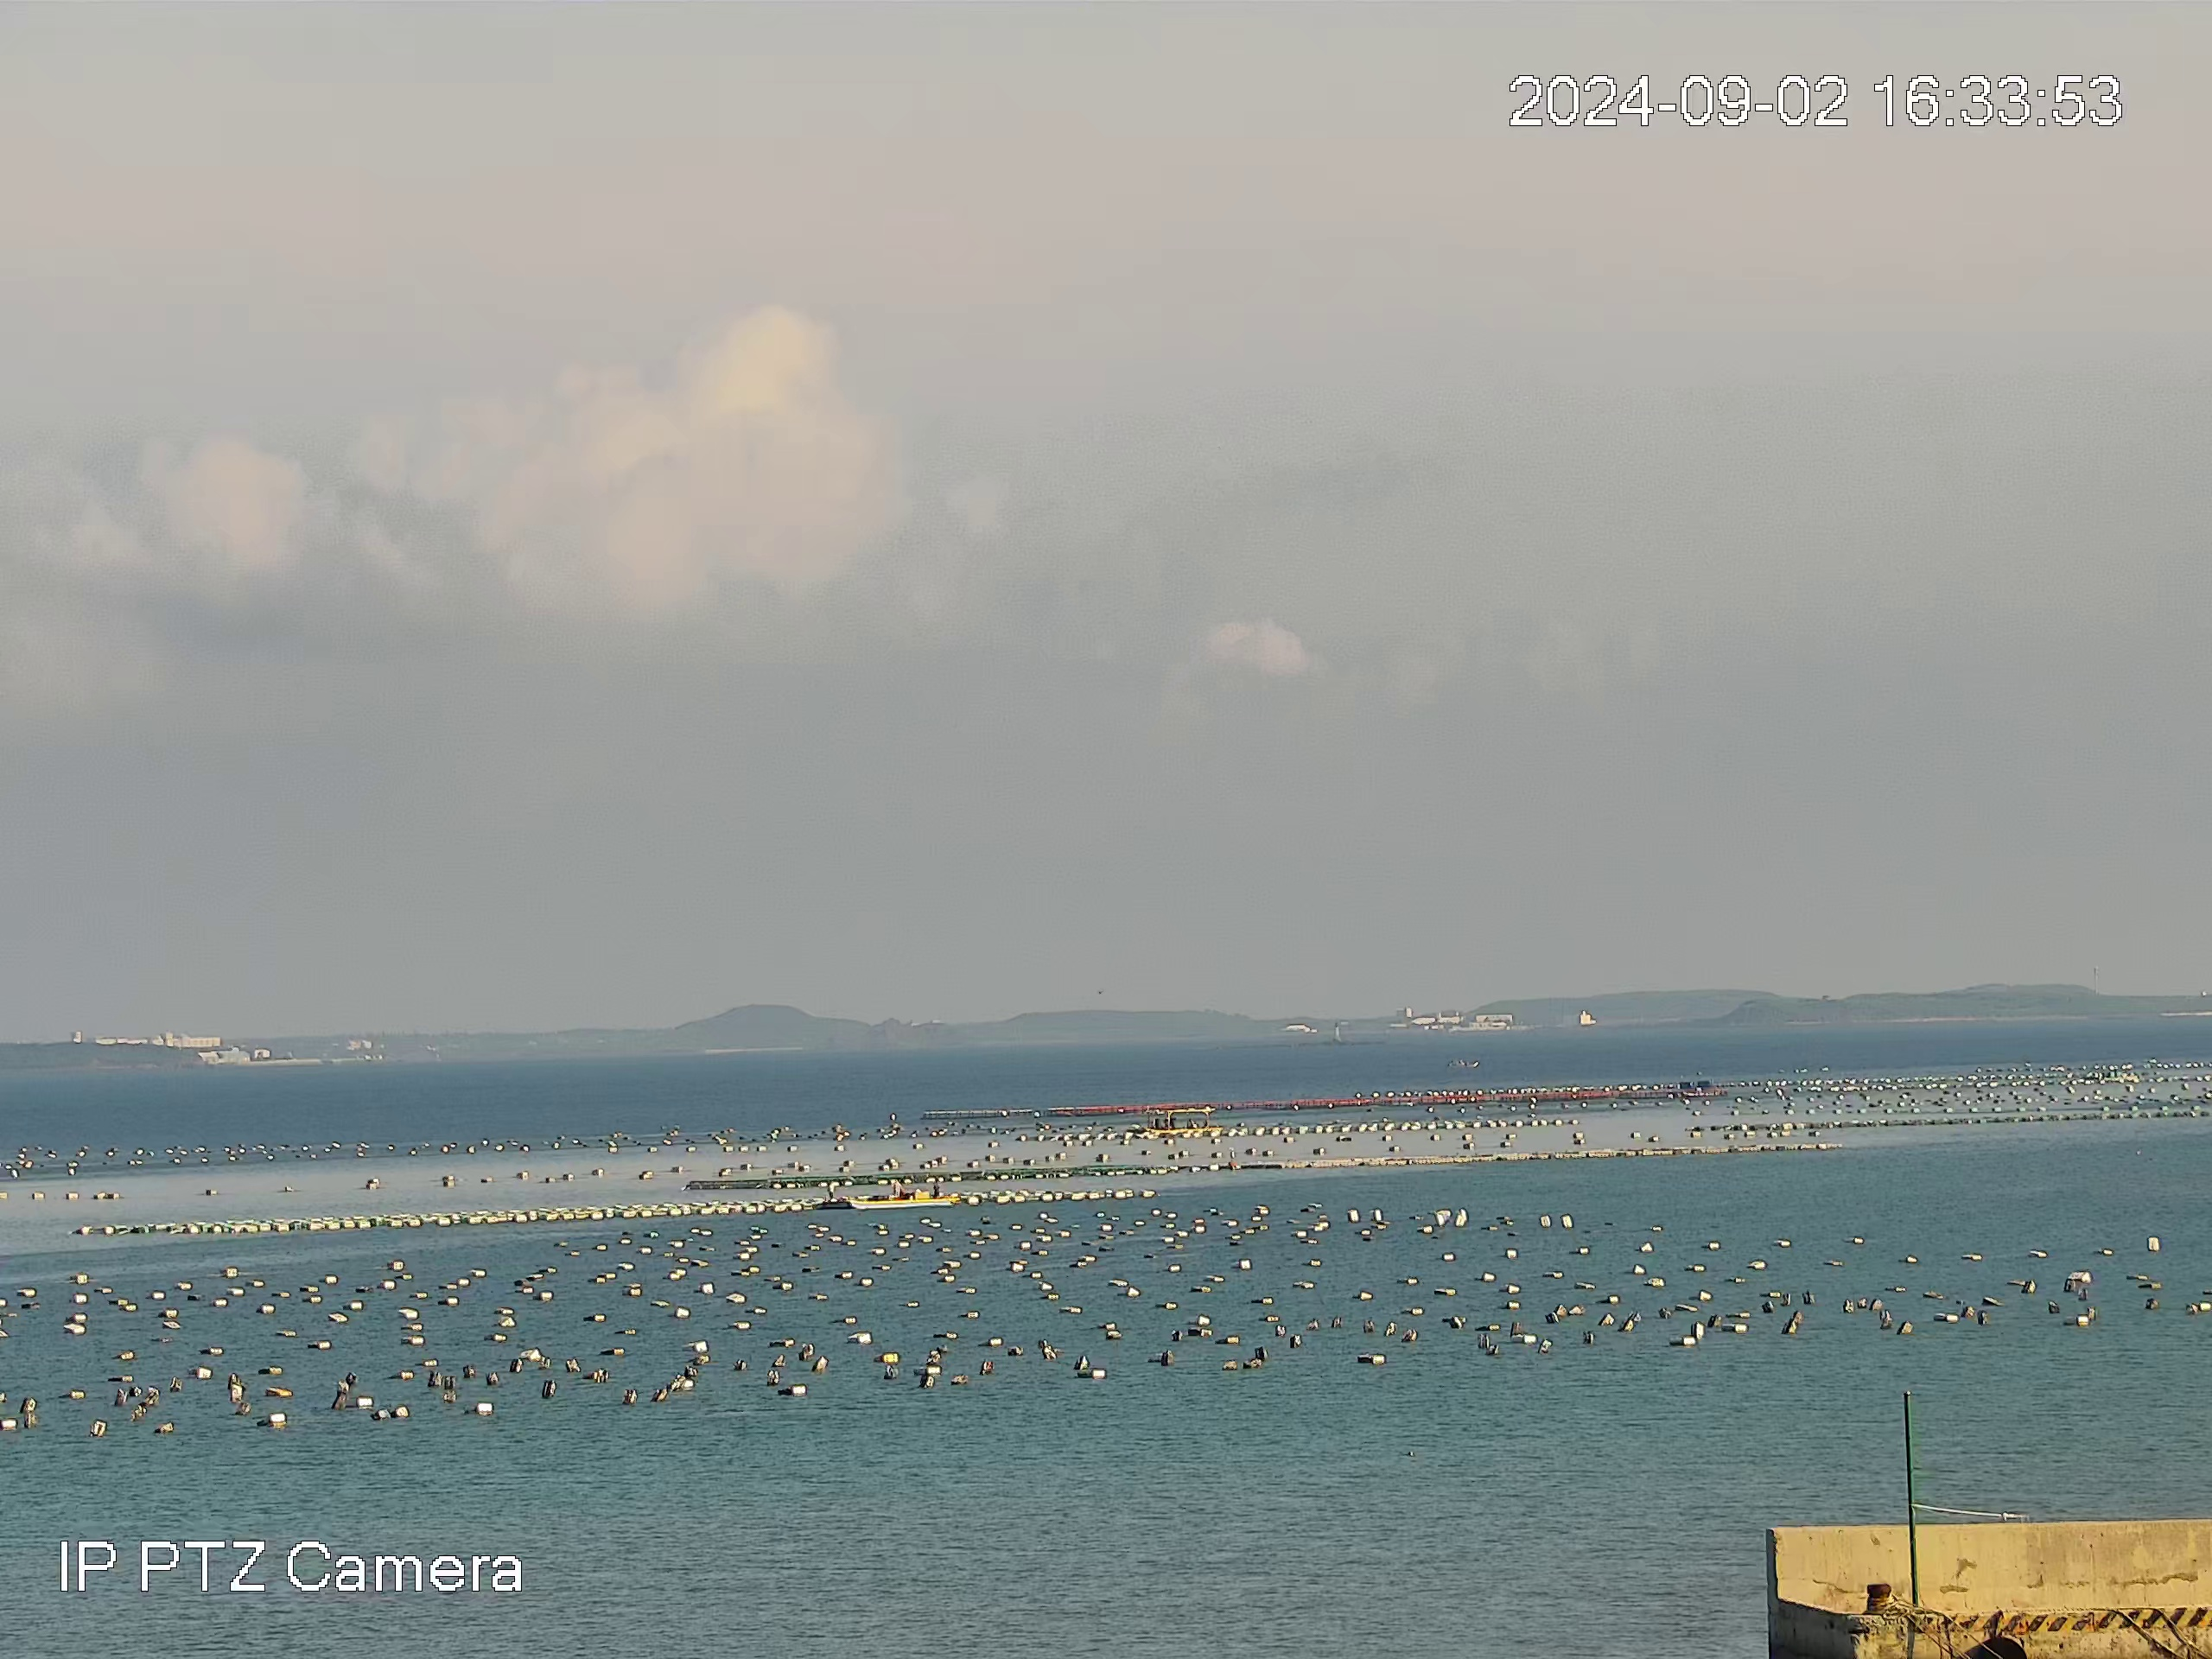boat: (843, 1180, 960, 1211), (1144, 1105, 1223, 1133)
